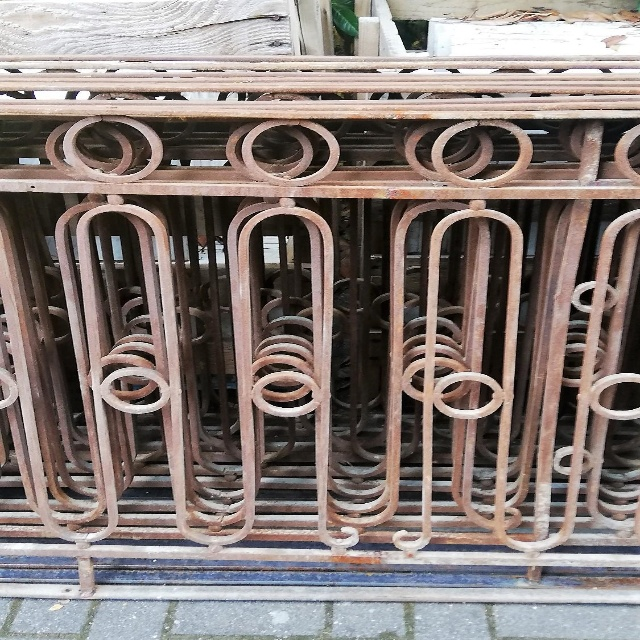obstacle: (0, 98, 640, 638)
